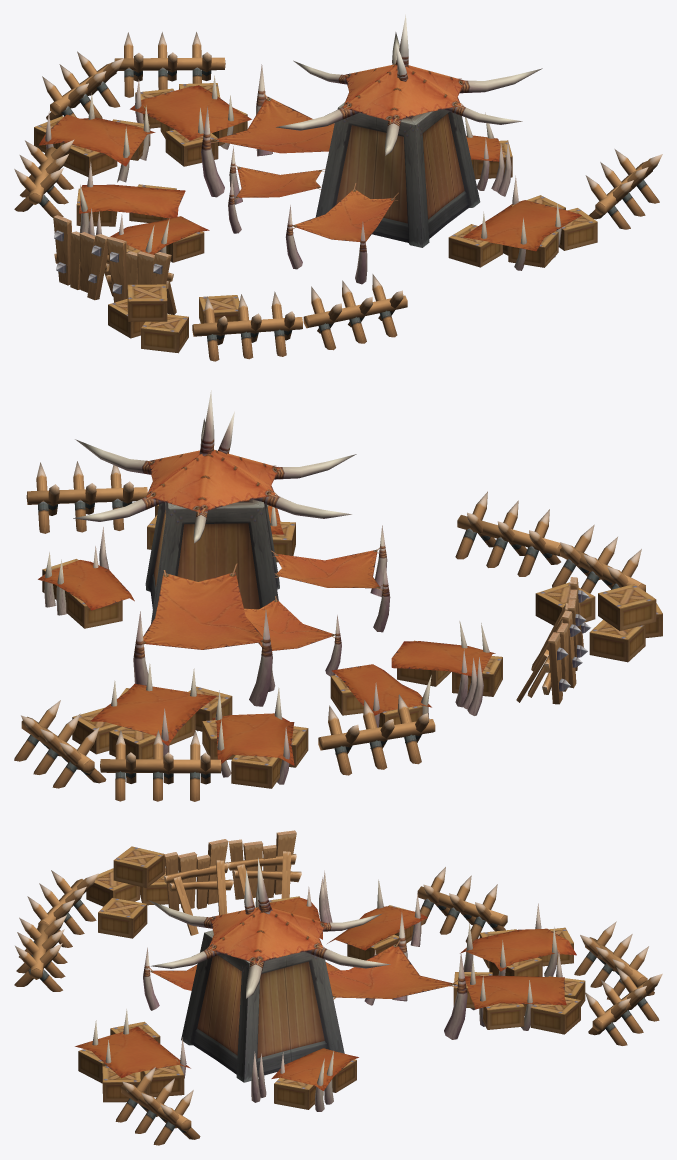
File: area_06_28.fbx
3 views of the same model, one above another, from view 1: azimuth 30°, elevation 25°; view 2: azimuth 150°, elevation 25°; view 3: azimuth 270°, elevation 25° (orthographic). The views are drawn at different scales.
Parts seen in each view (by area): view 1: area_06_28; view 2: area_06_28; view 3: area_06_28.
Boxes of the visible parts, box(x1,y1,x2,y2) form: area_06_28: box(14, 14, 662, 361); area_06_28: box(14, 390, 662, 801); area_06_28: box(14, 830, 662, 1145).
Bounding box in the file's own units: 30.39 × 11.11 × 31.93.
